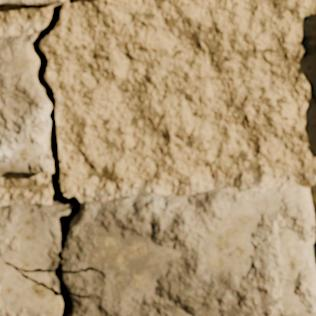brick: (0, 0, 63, 4)
broken_brick: (62, 185, 315, 315), (0, 33, 52, 176), (0, 202, 64, 268), (0, 258, 60, 315)
crack: (1, 1, 313, 315), (73, 10, 301, 33), (62, 31, 68, 33)
